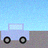vehicle: (1, 24, 29, 44)
